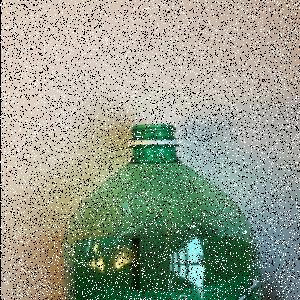Plastic-bottle: (62, 124, 266, 300)
